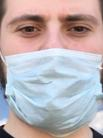with_mask: (1, 2, 103, 138)
